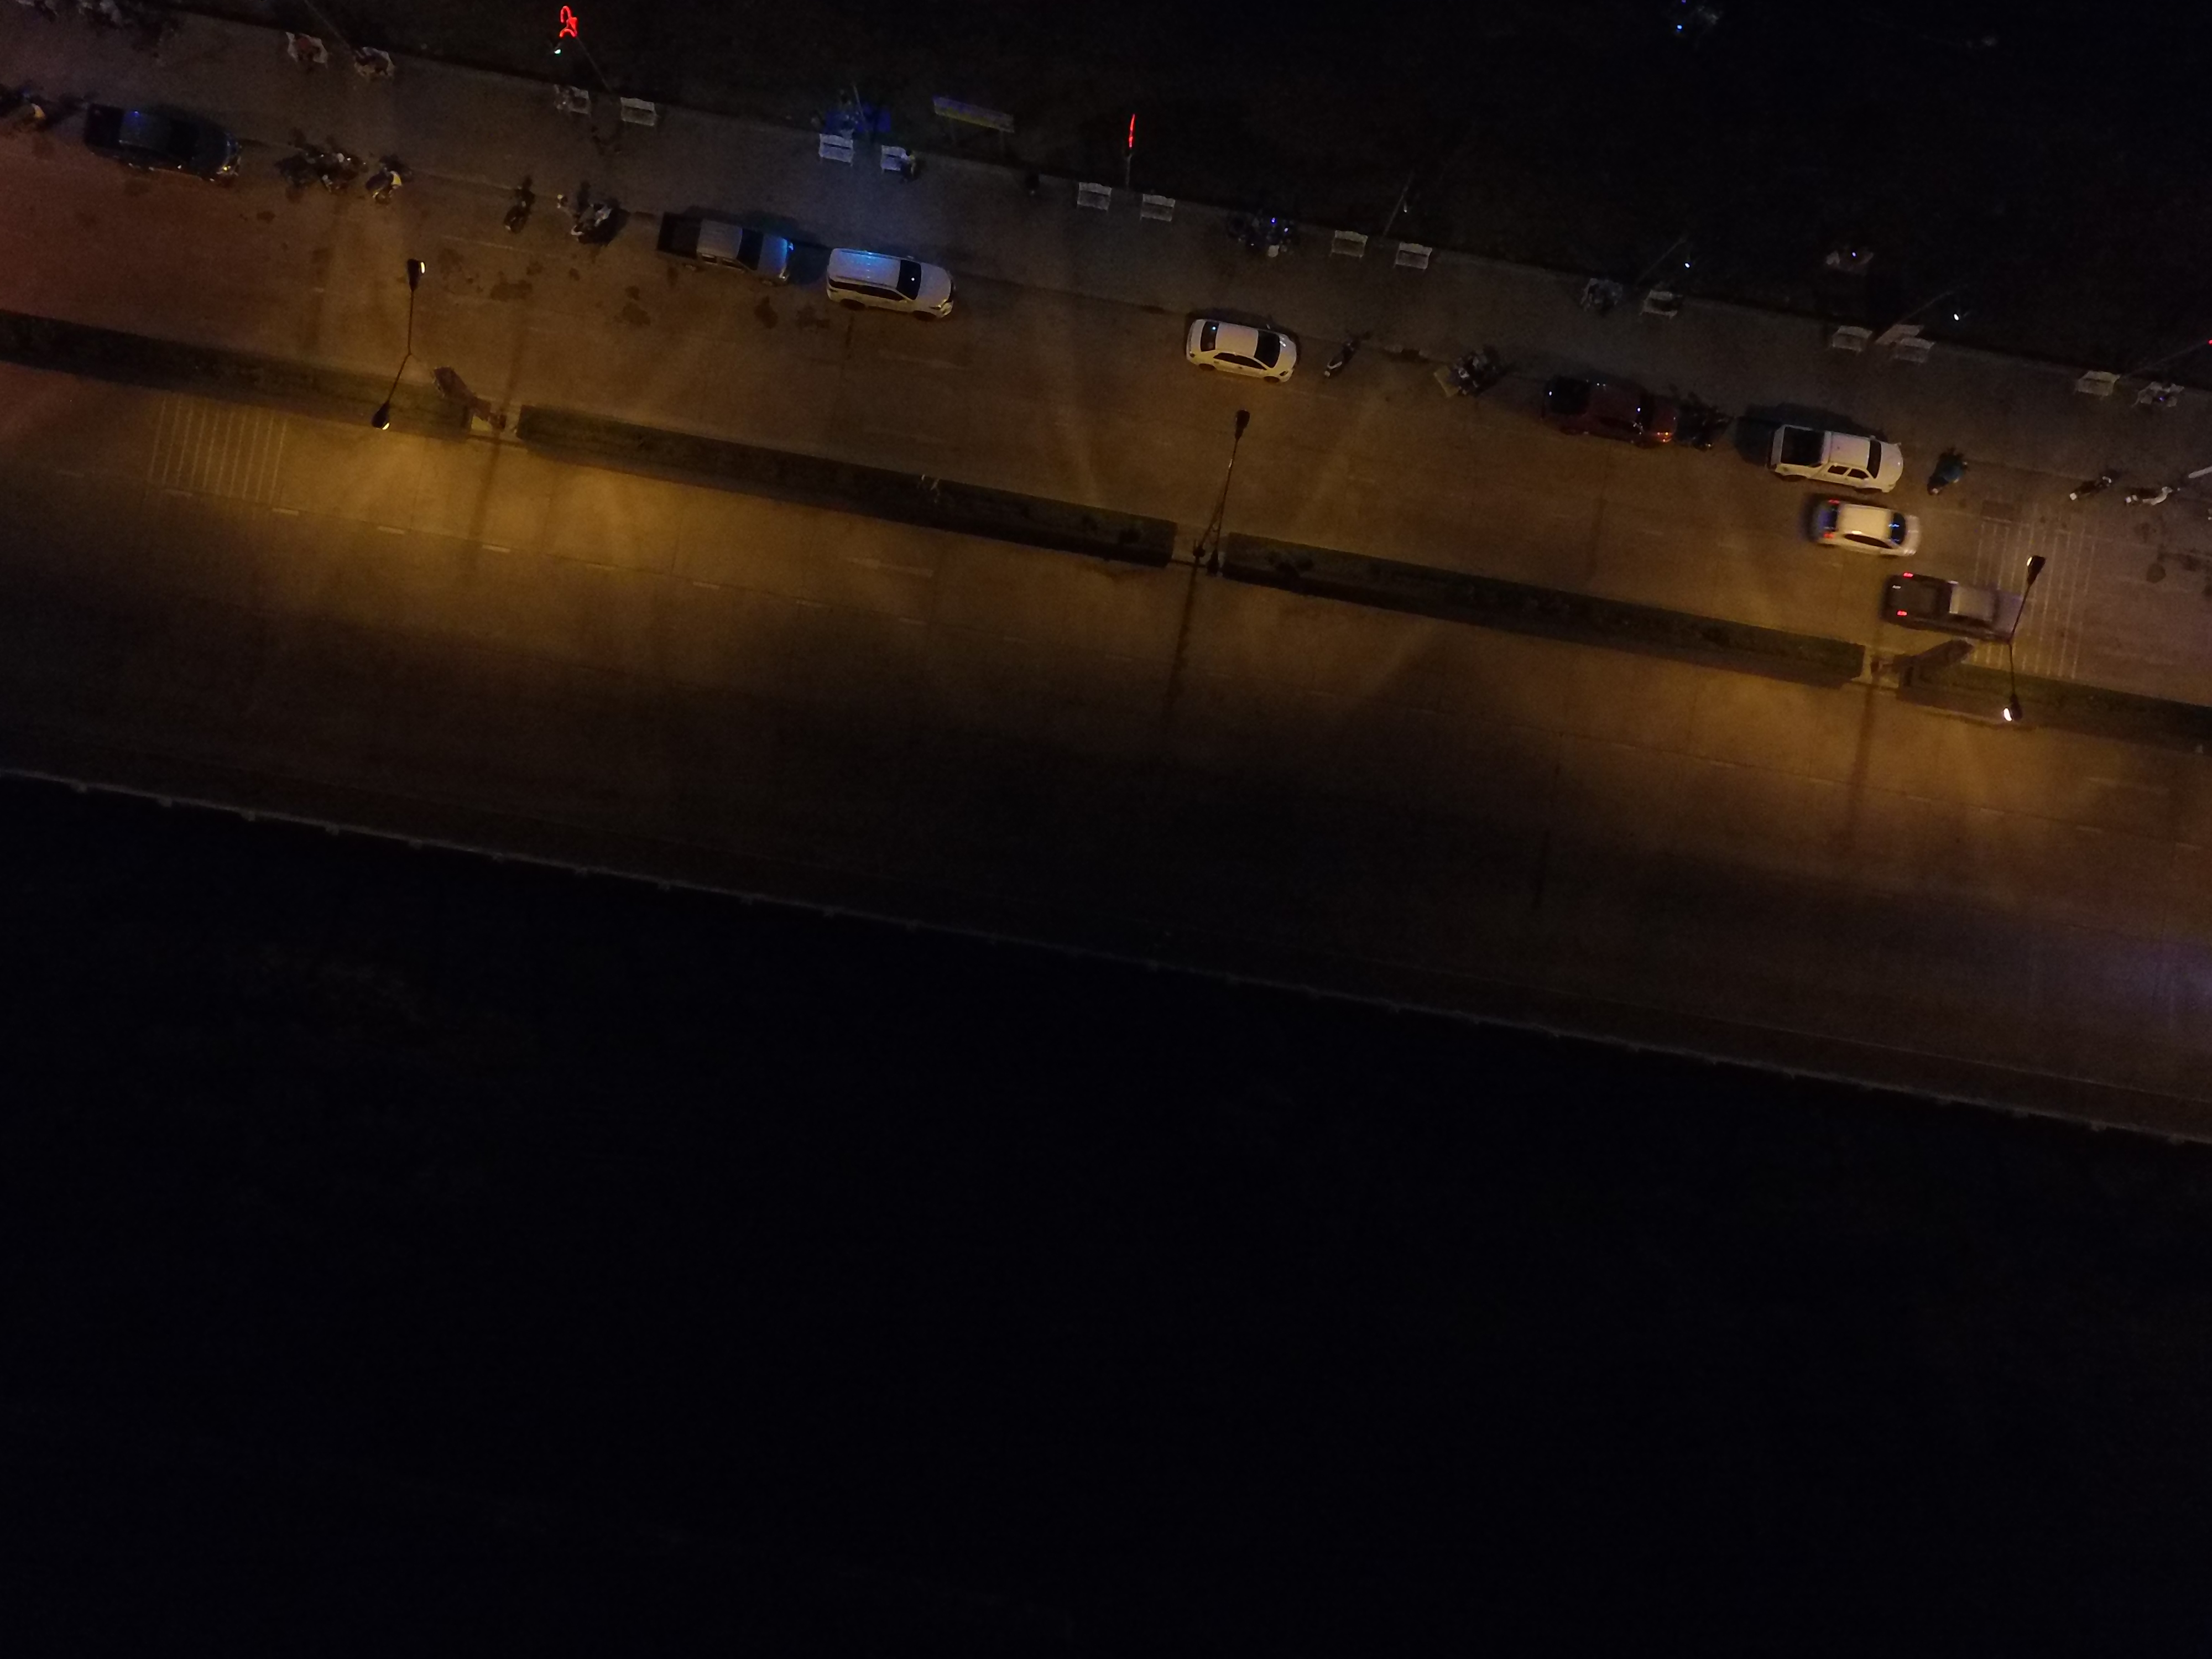car: (799, 240, 979, 340), (1862, 547, 2041, 647), (1146, 300, 1325, 397), (631, 185, 808, 282), (1749, 413, 1926, 511), (1780, 484, 1958, 582), (84, 105, 261, 202)
